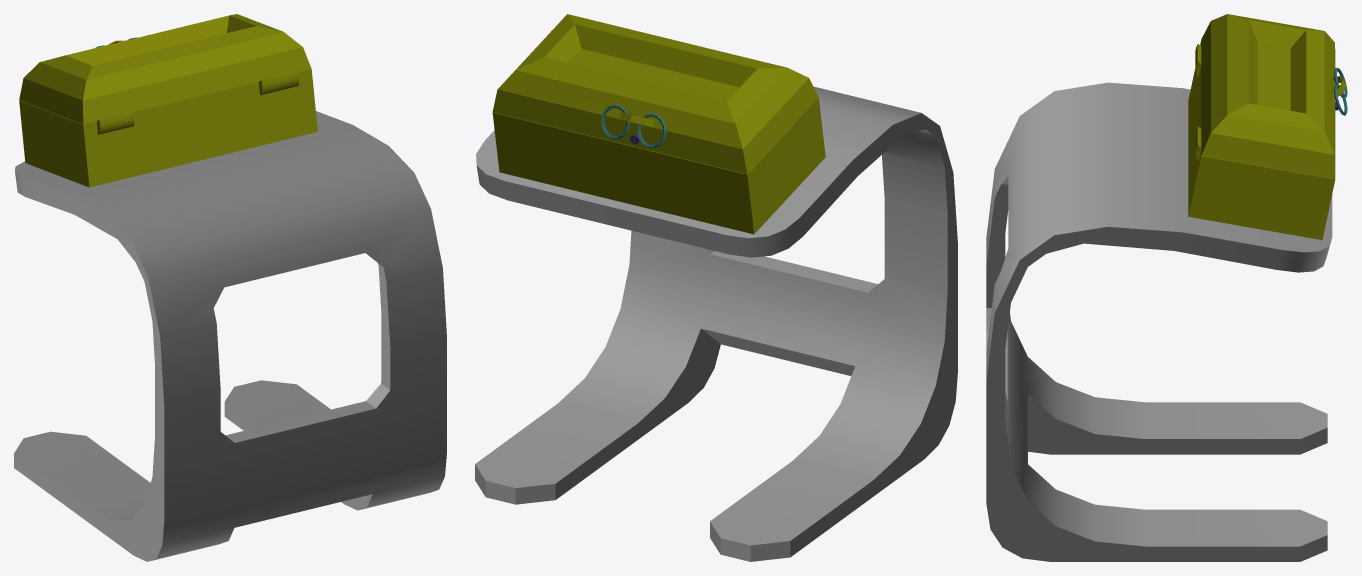
The model's file is LootBox.FBX.
The picture shows the model from 3 angles, left to right: view 1: azimuth 30°, elevation 25°; view 2: azimuth 150°, elevation 25°; view 3: azimuth 270°, elevation 25°; orthographic projection. The views are drawn at different scales.
Visible parts, largest first — view 1: LootBox, Cap; view 2: LootBox, Cap; view 3: LootBox, Cap.
Boxes of the visible parts, x1=… form: LootBox: x1=14, y1=69, x2=446, y2=561; Cap: x1=19, y1=14, x2=311, y2=124; LootBox: x1=475, y1=86, x2=957, y2=561; Cap: x1=492, y1=14, x2=818, y2=173; LootBox: x1=986, y1=40, x2=1335, y2=561; Cap: x1=1201, y1=14, x2=1347, y2=178.
Bounding box in the file's own units: 39.37 × 54.16 × 41.66.
